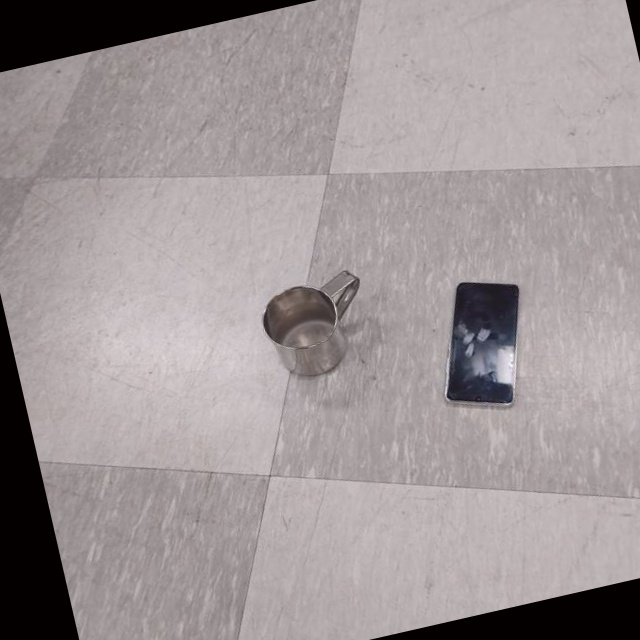cup: (252, 265, 381, 388)
phone: (420, 266, 548, 422)
